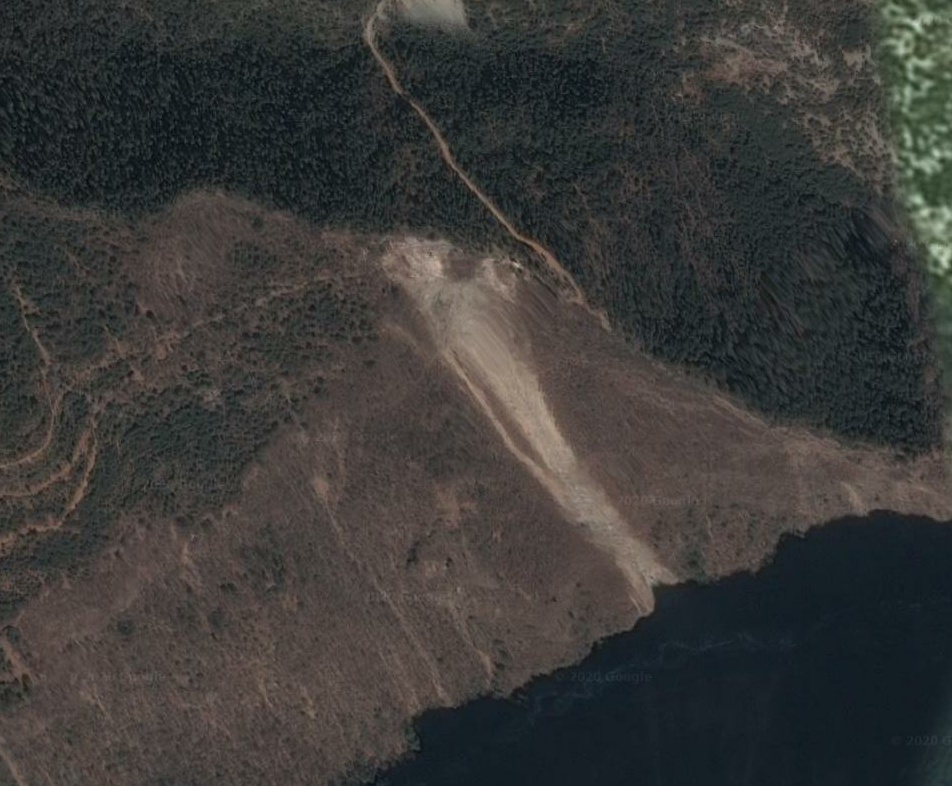slope: (377, 227, 679, 608)
